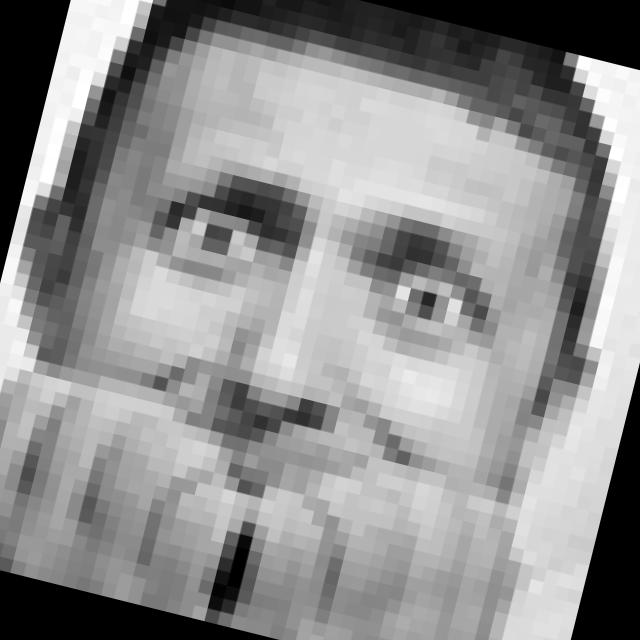fear: (66, 145, 517, 612)
